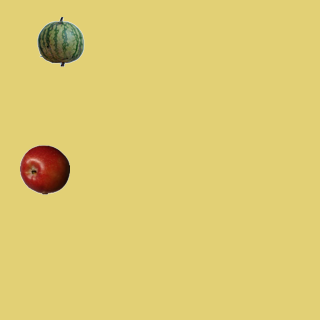Apple Braeburn: (19, 144, 69, 194)
Watermelon: (35, 16, 85, 66)
